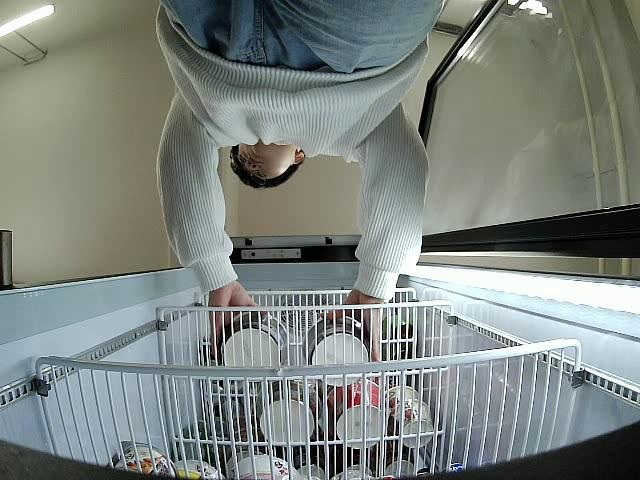00_hand: (324, 287, 383, 364), (206, 279, 261, 360)
07_buldak_L: (301, 315, 372, 389), (215, 309, 289, 376)
